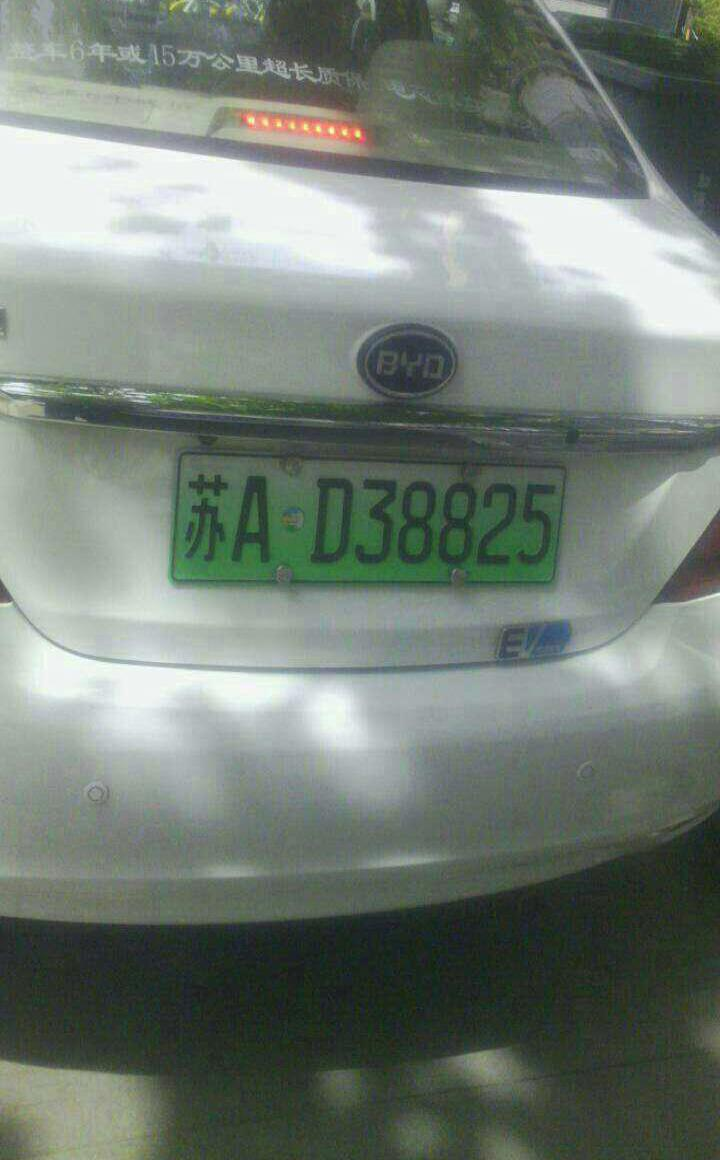car_id: (173, 454, 569, 580)
